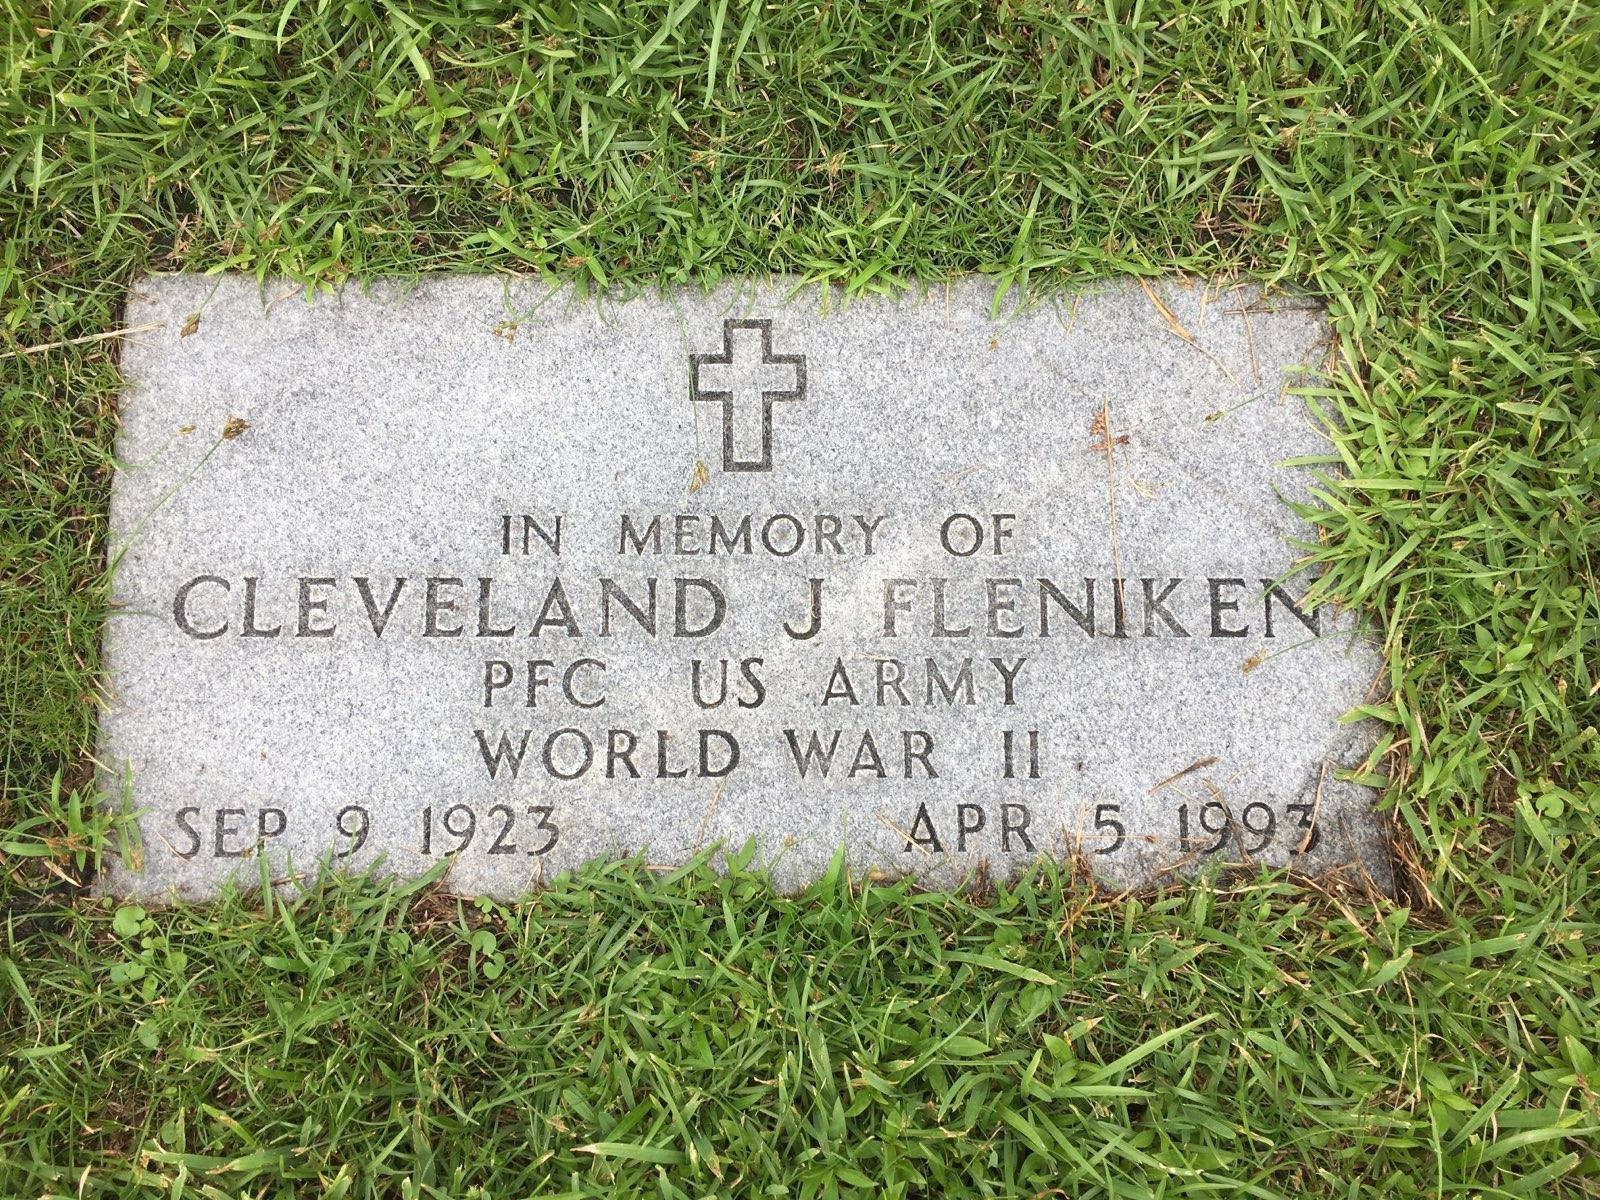flat: (84, 266, 1409, 926)
